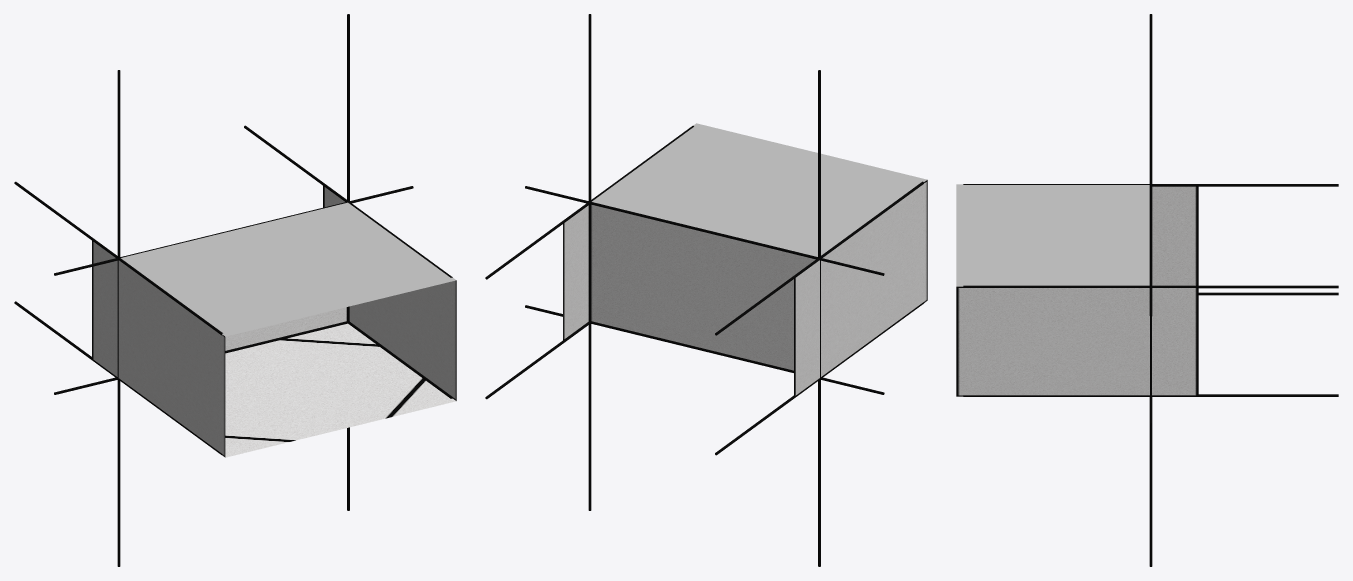
Rendered from Cozinha1.fbx.
3 views of the same model, side by side, from view 1: azimuth 30°, elevation 25°; view 2: azimuth 150°, elevation 25°; view 3: azimuth 270°, elevation 25° (orthographic). The views are drawn at different scales.
Visible parts, largest first — view 1: Plane.003, Plane, Plane.001, Plane.022, Cylinder.001, Cylinder.002, Plane.002, Cylinder; view 2: Plane.002, Plane.003, Plane.001, Cylinder.001, Plane.022, Cylinder.002, Cylinder; view 3: Plane.022, Plane.003, Plane.001, Cylinder.002, Cylinder.001.
Part boxes in pixels (x1,y1,x2,y2): Plane.003: (121,202,455,336); Plane: (225,323,455,457); Plane.001: (92,241,225,457); Plane.022: (323,186,456,400); Cylinder.001: (117,14,349,566); Cylinder.002: (14,125,452,454); Plane.002: (225,307,347,350); Cylinder: (54,186,413,394); Plane.002: (591,204,815,370); Plane.003: (592,123,926,256); Plane.001: (794,180,927,396); Cylinder.001: (588,14,820,566); Plane.022: (563,205,588,339); Cylinder.002: (485,125,923,455); Cylinder: (525,186,884,394); Plane.022: (956,286,1198,396); Plane.003: (956,184,1149,286); Plane.001: (1152,186,1198,285); Cylinder.002: (963,184,1338,396); Cylinder.001: (1149,14,1152,566).
Bounding box in the file's own units: 620 × 820 × 631.
